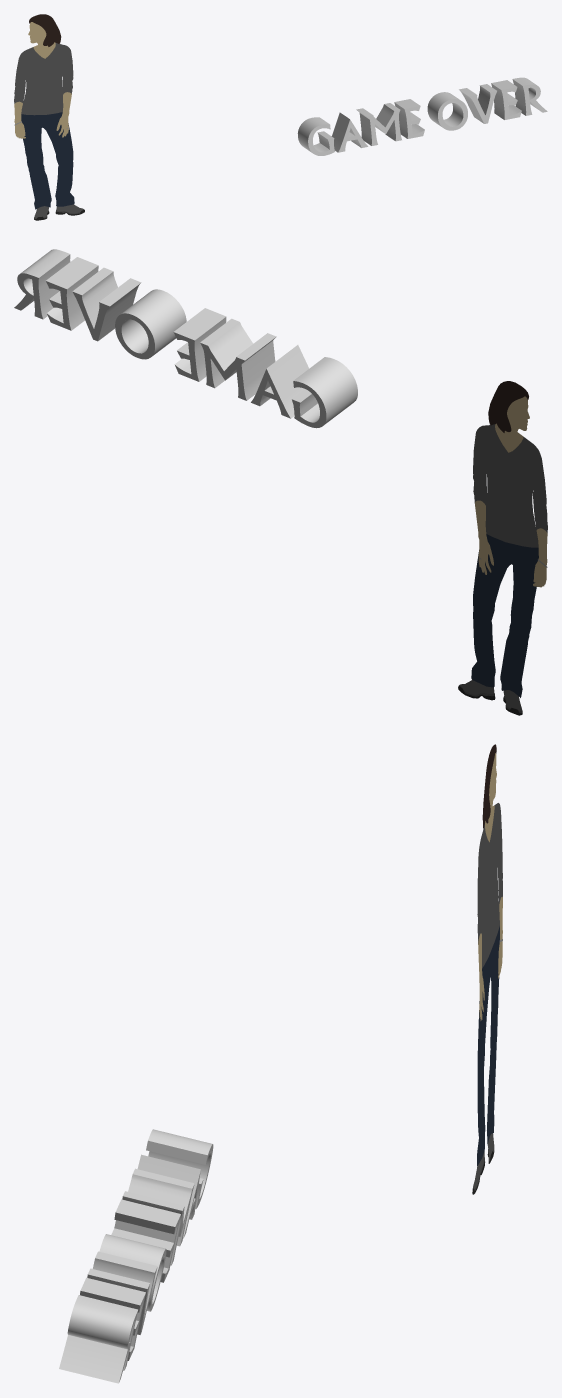
Rendered from Nome.dae.
3 renders of one model, top to bottom at view 1: azimuth 30°, elevation 25°; view 2: azimuth 150°, elevation 25°; view 3: azimuth 270°, elevation 25°, orthographic. The views are drawn at different scales.
Visible parts, largest first — view 1: Susan (×5), GAME_OVER (×9); view 2: GAME_OVER (×9), Susan (×5); view 3: GAME_OVER (×8), Susan (×2).
Part boxes in pixels (x1,y1,x2,y2): Susan (×5): [14, 14, 74, 209]; GAME_OVER (×9): [297, 77, 547, 155]; GAME_OVER (×9): [14, 249, 357, 428]; Susan (×5): [471, 381, 547, 697]; GAME_OVER (×8): [59, 1129, 213, 1383]; Susan (×2): [477, 803, 502, 1165].
Size of the model in its own units: 145 by 65.09 by 66.6.
